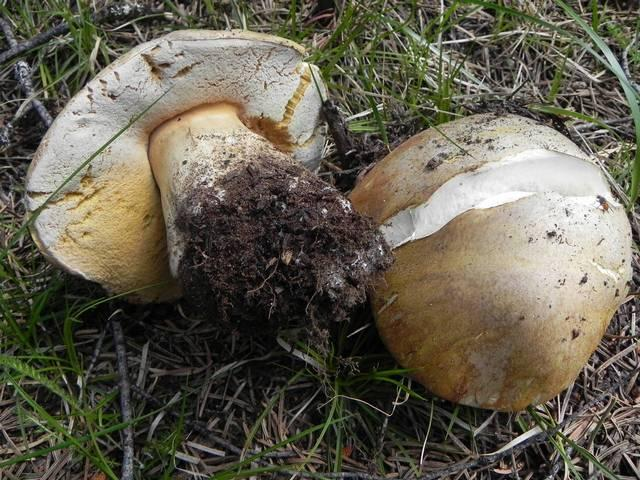edible_mushroom: (344, 110, 633, 413), (23, 26, 330, 306)
